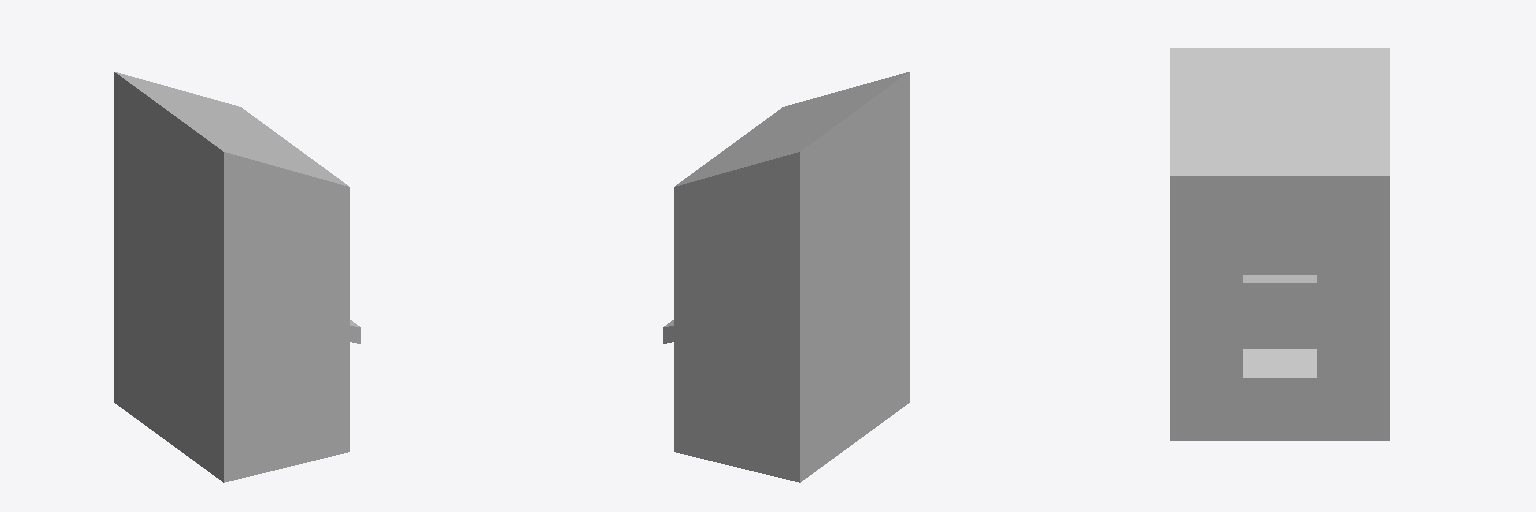
The model's file is cel_prime_terminal.obj.
3 renders of one model, left to right at view 1: azimuth 30°, elevation 25°; view 2: azimuth 150°, elevation 25°; view 3: azimuth 270°, elevation 25°, orthographic.
Visible parts, largest first — view 1: Cube.001_Cube.002; view 2: Cube.001_Cube.002; view 3: Cube.001_Cube.002.
Boxes of the visible parts, x1=… form: Cube.001_Cube.002: x1=114, y1=72, x2=360, y2=482; Cube.001_Cube.002: x1=663, y1=72, x2=909, y2=482; Cube.001_Cube.002: x1=1170, y1=48, x2=1389, y2=440.
Bounding box in the file's own units: 2.75 × 5 × 3.